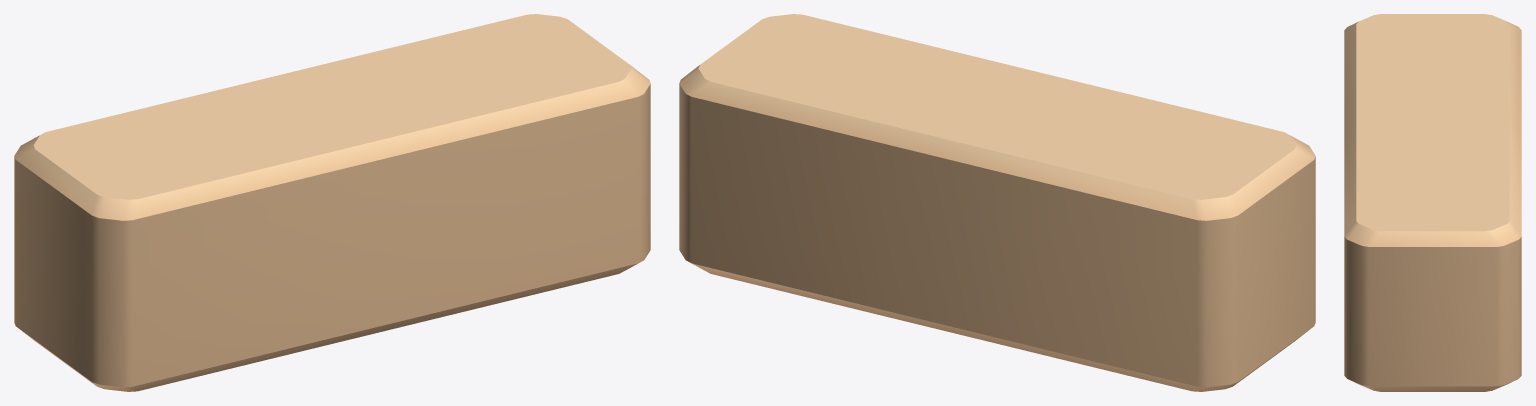
The model's file is Stone_Block_1x3.fbx.
3 renders of one model, left to right at view 1: azimuth 30°, elevation 25°; view 2: azimuth 150°, elevation 25°; view 3: azimuth 270°, elevation 25°, orthographic. The views are drawn at different scales.
Parts seen in each view (by area): view 1: Stone Block 1x3; view 2: Stone Block 1x3; view 3: Stone Block 1x3.
Boxes of the visible parts, left/top/right/bottom form: Stone Block 1x3: left=14, top=14, right=650, bottom=391; Stone Block 1x3: left=679, top=14, right=1315, bottom=391; Stone Block 1x3: left=1344, top=14, right=1521, bottom=391.
Bounding box in the file's own units: 299 × 98.56 × 98.56.
